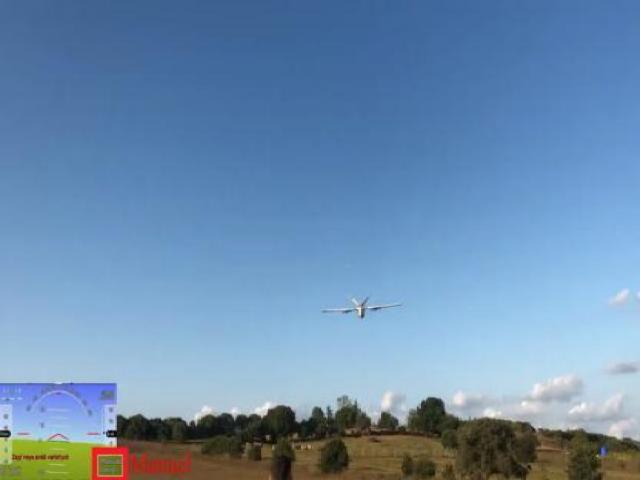uav: (322, 291, 404, 317)
